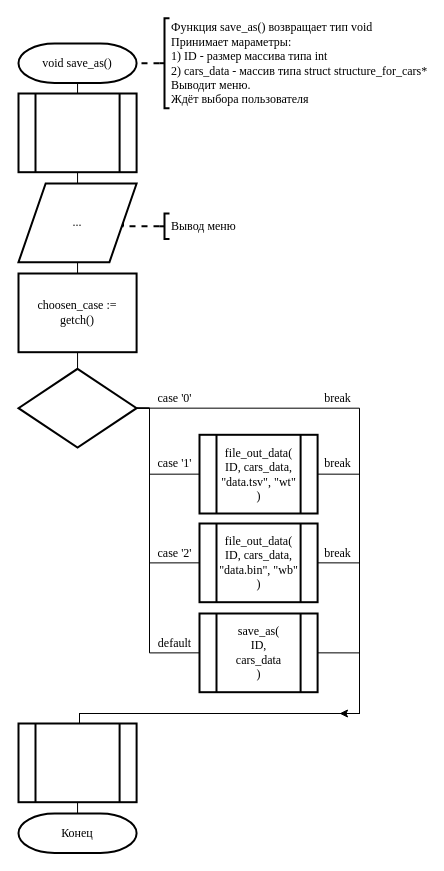
The diagram is 444 pixels wide and 871 high, and some of its shapes have lost their labels. The centre of each missing label's shape, as x and y in pixels:
choosen_case: the point at 77,407
clear _console(): the point at 77,132
menu( ID, cars_data ): the point at 77,762
